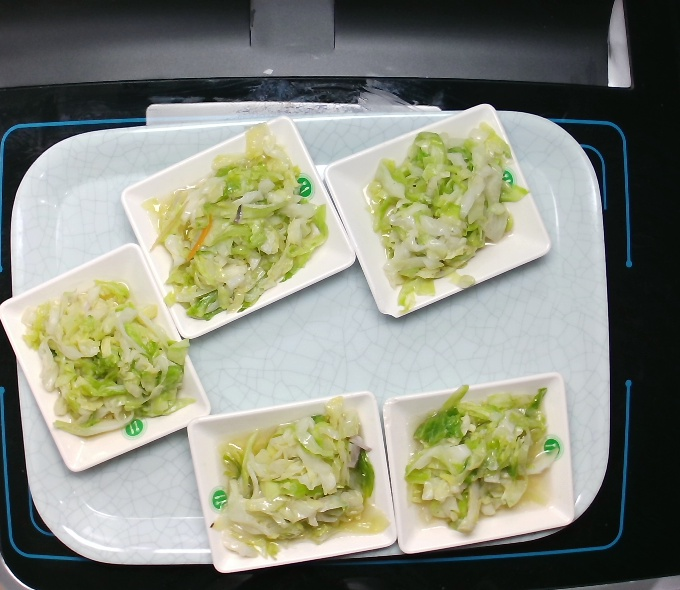wcq-JuanXinCai: (146, 126, 335, 327), (354, 125, 536, 314), (17, 272, 196, 438), (208, 398, 387, 564), (402, 385, 565, 538)
